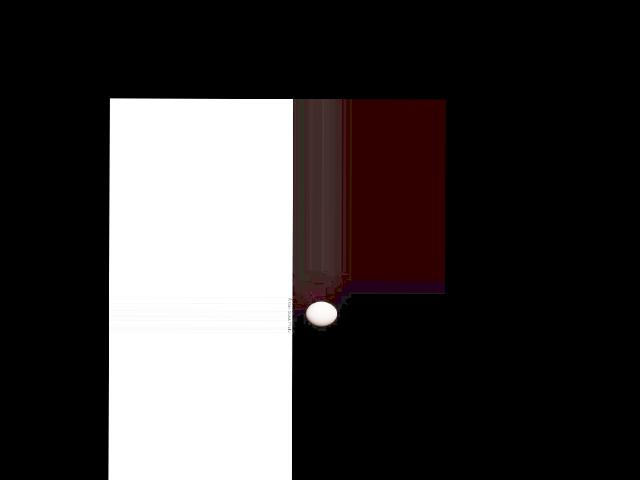egg: (305, 302, 337, 326)
